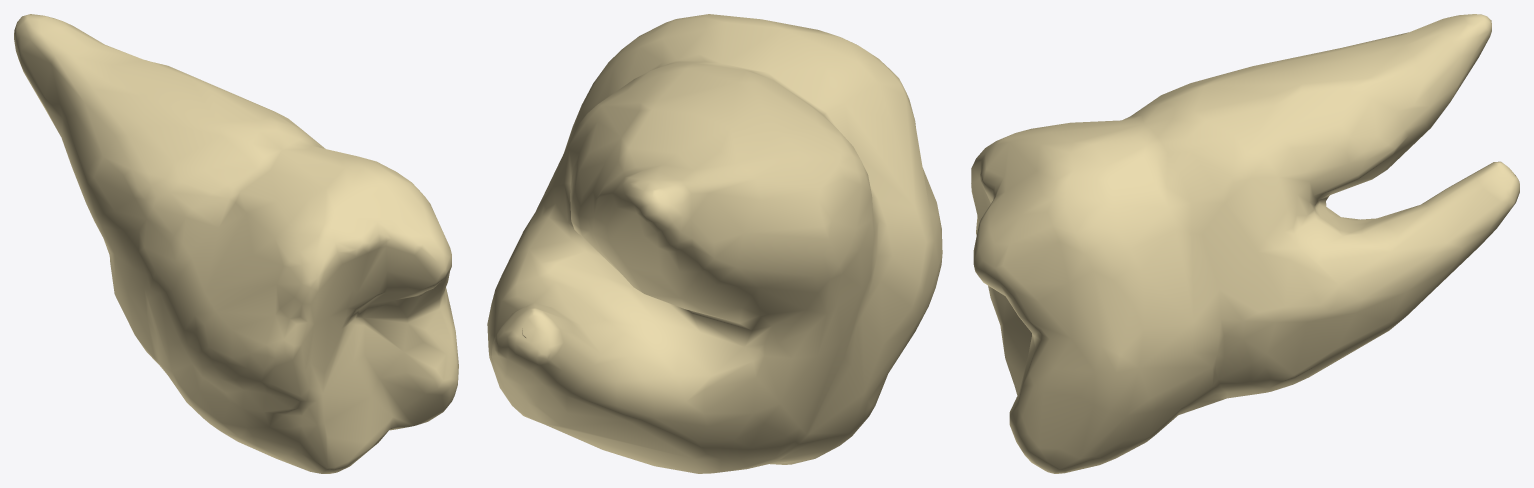
The picture shows the model from 3 angles, left to right: view 1: azimuth 30°, elevation 25°; view 2: azimuth 150°, elevation 25°; view 3: azimuth 270°, elevation 25°; orthographic projection. The views are drawn at different scales.
Visible parts, largest first — view 1: 右侧下颌第一磨牙; view 2: 右侧下颌第一磨牙; view 3: 右侧下颌第一磨牙.
Part boxes in pixels (x1,y1,x2,y2): 右侧下颌第一磨牙: [14, 14, 458, 473]; 右侧下颌第一磨牙: [487, 14, 942, 473]; 右侧下颌第一磨牙: [971, 14, 1519, 473].
Size of the model in its own units: 0.0178 by 0.0217 by 0.0284.
